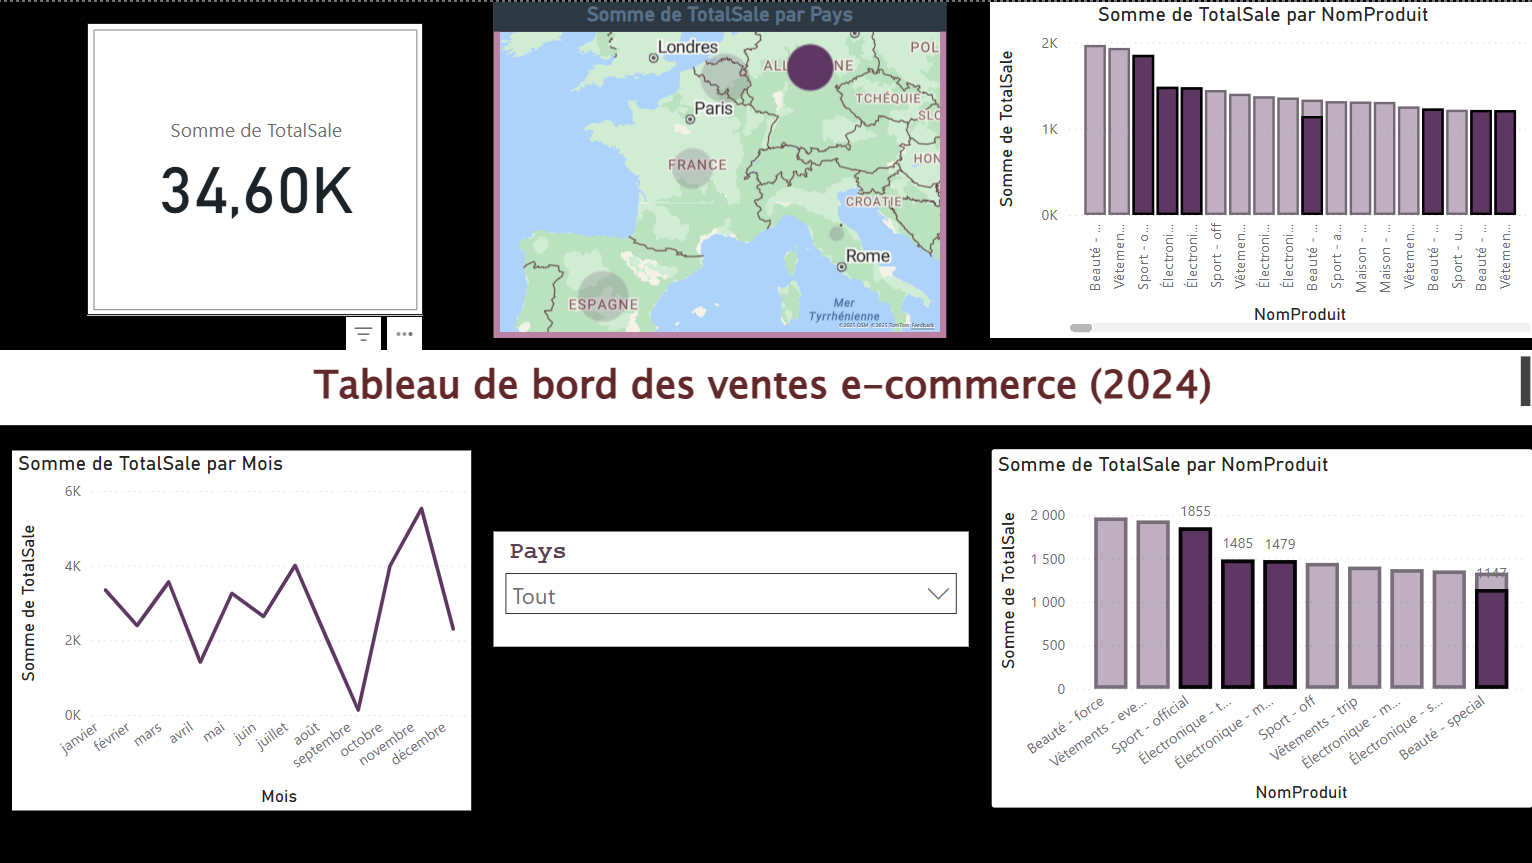

This screenshot's page, from the dashboard's own definition file:
{"tool":"powerbi","page":{"name":"Page 1","canvas":[1280,720],"ordinal":0},"visuals":[{"type":"cardVisual","fields":{"Data":["Sum(sales_data.TotalSale)"]},"box":[72.9,17.1,280,244.3],"z":0},{"type":"clusteredColumnChart","fields":{"Y":["Sum(sales_data.TotalSale)"],"Category":["sales_data.NomProduit"]},"box":[824.6,0,455.4,280.1],"z":1000},{"type":"lineChart","fields":{"Y":["Sum(sales_data.TotalSale)"],"Category":["sales_data.DateCommande.Variation.Hiérarchie de dates.Année","sales_data.DateCommande.Variation.Hiérarchie de dates.Trimestre","sales_data.DateCommande.Variation.Hiérarchie de dates.Mois","sales_data.DateCommande.Variation.Hiérarchie de dates.Jour"]},"box":[10,374.3,382.9,300],"z":2000},{"type":"map","fields":{"Size":["Sum(sales_data.TotalSale)"],"Category":["sales_data.Pays"]},"box":[411.4,0,377.1,280],"z":3000},{"type":"clusteredColumnChart","fields":{"Category":["sales_data.NomProduit"],"Y":["Sum(sales_data.TotalSale)"]},"box":[824.3,370,455.7,304.3],"z":4000},{"type":"slicer","fields":{"Values":["sales_data.Pays"]},"box":[411.4,441.4,395.7,95.7],"z":5000},{"type":"textbox","box":[0,290,1280,62.9],"z":5001}]}

Visuals, with their boxes in screenshot pixels (x1, y1, x2, y2), scaled from the page's 1280x720 canvas onto the 1532x863 screenshot:
cardVisual - Sum(sales_data.TotalSale): 87:20:422:313
clusteredColumnChart - Sum(sales_data.TotalSale) x sales_data.NomProduit: 987:0:1531:336
lineChart - Sum(sales_data.TotalSale) x sales_data.DateCommande.Variation.Hiérarchie de dates.Année: 12:449:470:808
map - Sum(sales_data.TotalSale) x sales_data.Pays: 492:0:944:336
clusteredColumnChart - sales_data.NomProduit x Sum(sales_data.TotalSale): 987:443:1531:808
slicer - sales_data.Pays: 492:529:966:644
textbox: 0:348:1531:423
